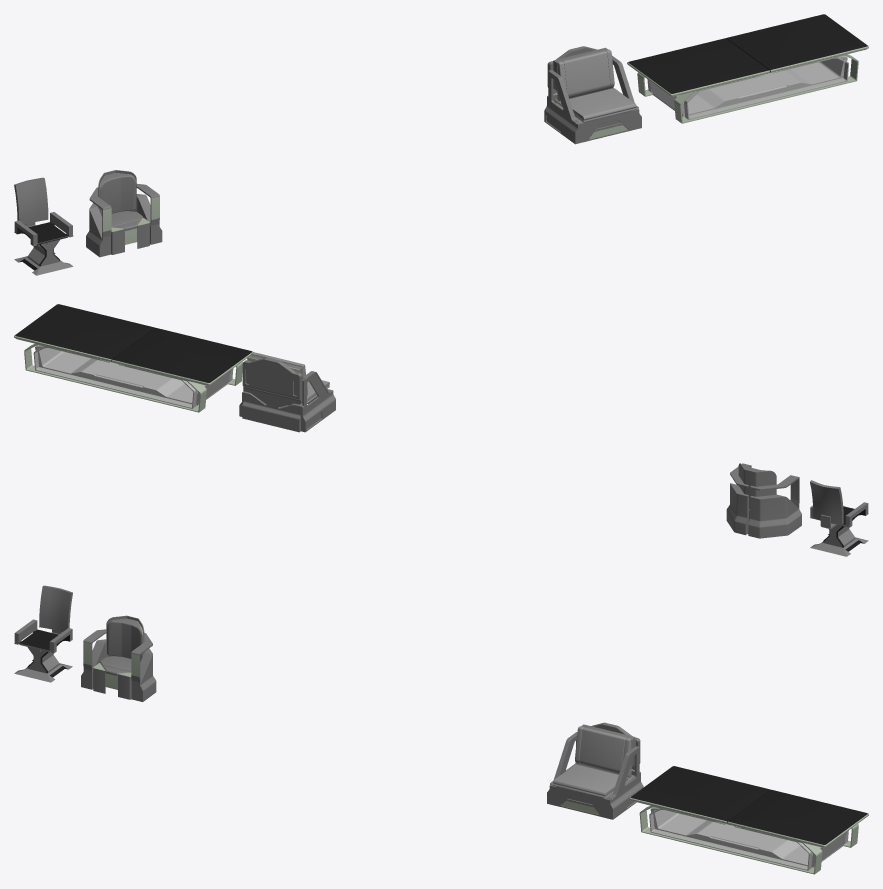
The model's file is Chairs_Sketchfab.fbx.
3 views of the same model, one above another, from view 1: azimuth 30°, elevation 25°; view 2: azimuth 150°, elevation 25°; view 3: azimuth 330°, elevation 25° (orthographic).
Visible parts, largest first — view 1: Demo, Demo.003, Demo.004, Demo.006; view 2: Demo, Demo.003, Demo.004, Demo.006; view 3: Demo, Demo.003, Demo.004, Demo.006.
Part boxes in pixels (<box>): Demo: <box>627,14,868,123</box>; Demo.003: <box>544,46,641,144</box>; Demo.004: <box>86,170,162,257</box>; Demo.006: <box>14,177,73,275</box>; Demo: <box>14,304,252,412</box>; Demo.003: <box>239,352,335,432</box>; Demo.004: <box>726,463,801,538</box>; Demo.006: <box>810,480,868,556</box>; Demo: <box>629,766,868,874</box>; Demo.003: <box>547,722,643,819</box>; Demo.004: <box>81,615,156,701</box>; Demo.006: <box>14,585,72,682</box>.
Bounding box in the file's own units: 1643 × 136 × 154.
